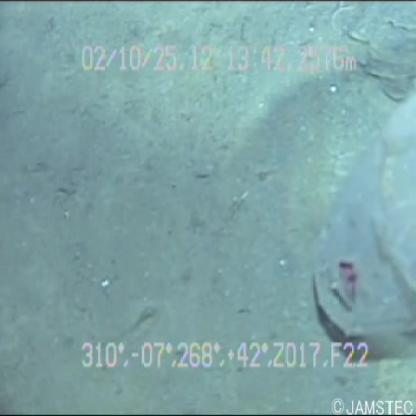Rác: (313, 47, 416, 358)
